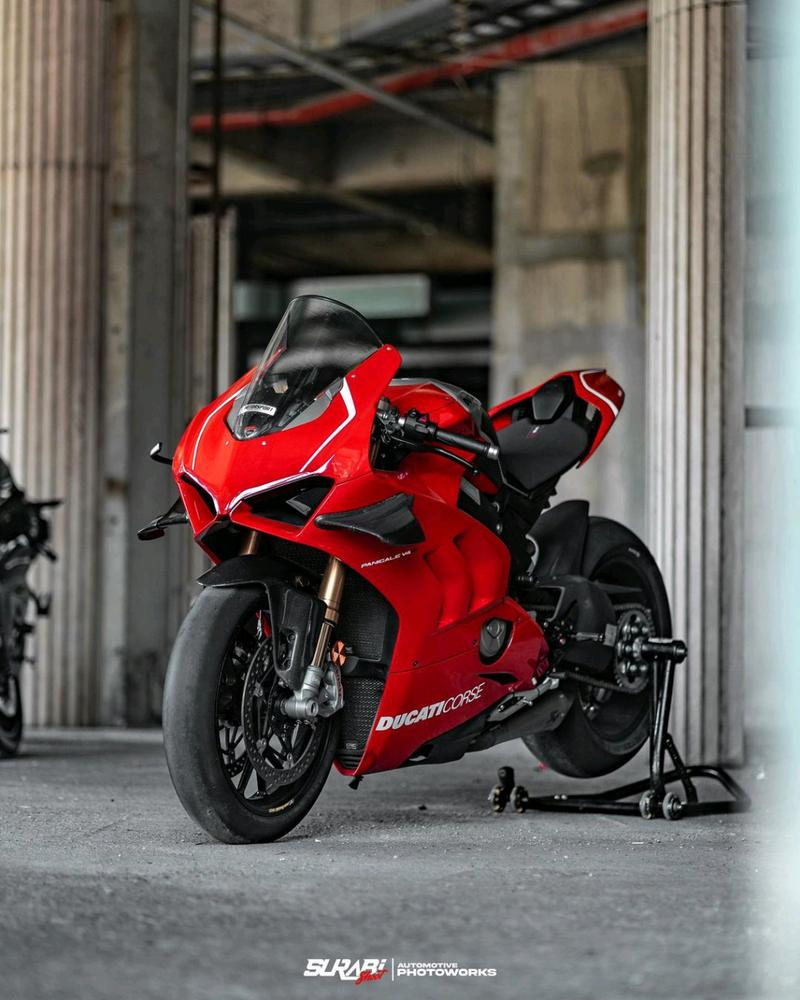摩托车: (150, 290, 694, 837)
